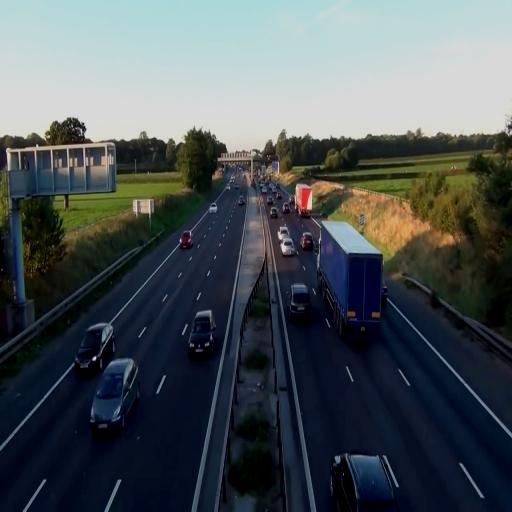vehicle: (318, 218, 383, 339), (330, 452, 400, 512), (90, 354, 140, 436), (75, 322, 115, 376), (188, 310, 216, 358), (288, 284, 312, 323), (295, 182, 313, 216), (278, 228, 296, 256), (301, 231, 314, 252), (180, 232, 192, 250)
